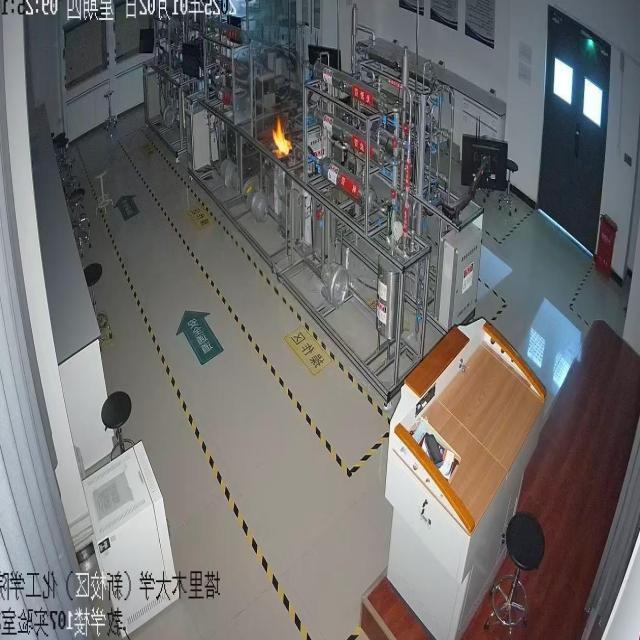smoke: (269, 115, 293, 160)
